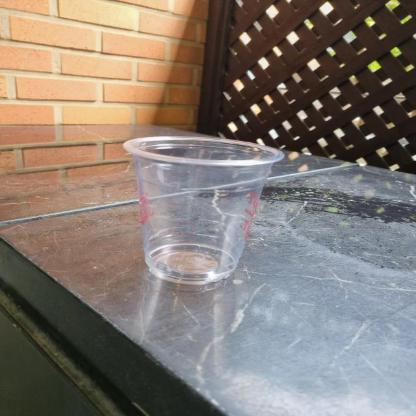Plastic Cup: (116, 130, 288, 288)
